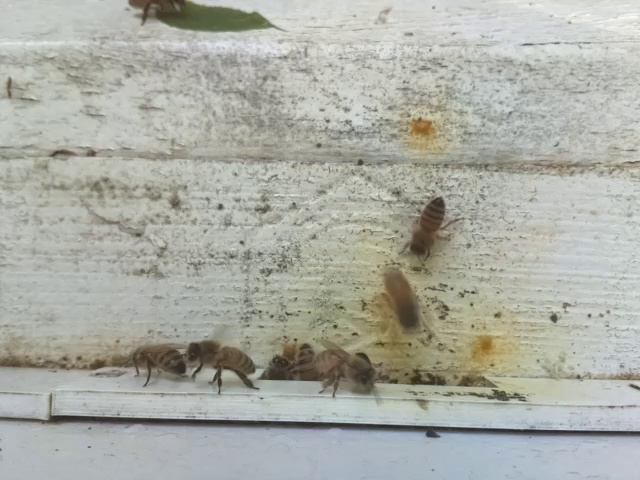bee: (311, 333, 387, 409), (372, 261, 437, 336), (185, 336, 261, 395), (403, 190, 459, 265), (123, 339, 192, 386), (295, 339, 319, 385), (264, 344, 290, 384)
